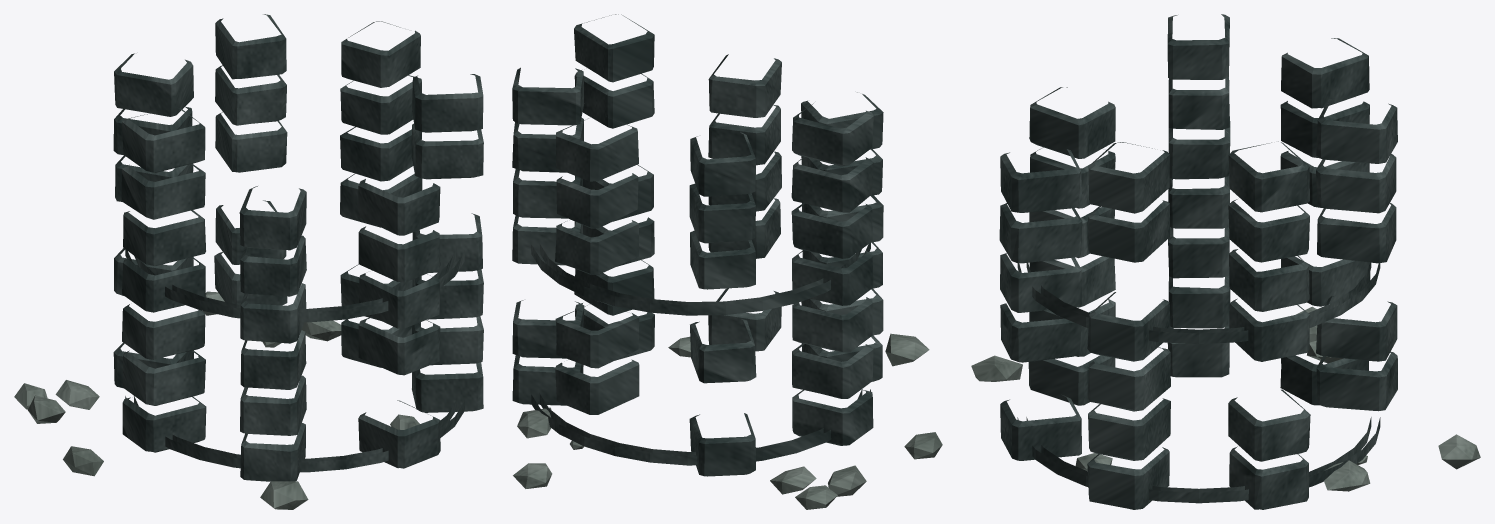
File: 0415_ruined_tower_15.glb
3 views of the same model, side by side, from view 1: azimuth 30°, elevation 25°; view 2: azimuth 150°, elevation 25°; view 3: azimuth 270°, elevation 25° (orthographic). The views are drawn at different scales.
Visible parts, largest first — view 1: stone_dark, stone; view 2: stone_dark, stone; view 3: stone_dark, stone.
Boxes of the visible parts, x1,y1,x2,y2 form: stone_dark: (113,14,483,481); stone: (14,291,419,509); stone_dark: (512,14,883,476); stone: (513,333,942,509); stone_dark: (999,14,1397,509); stone: (971,306,1480,491).
Bounding box in the file's own units: 3.66 × 2.94 × 3.92.
Materials: 2 (2 with a texture image).
